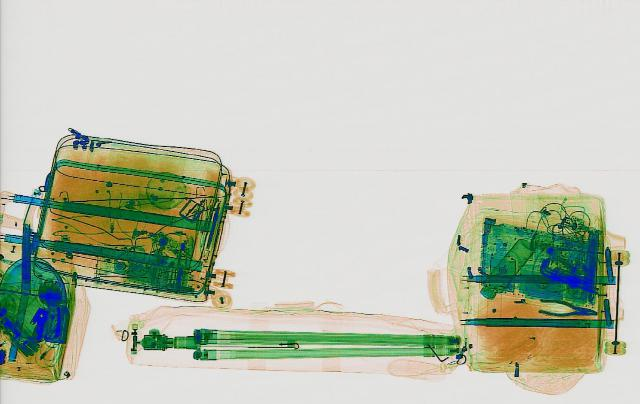Pliers: (532, 295, 598, 318)
